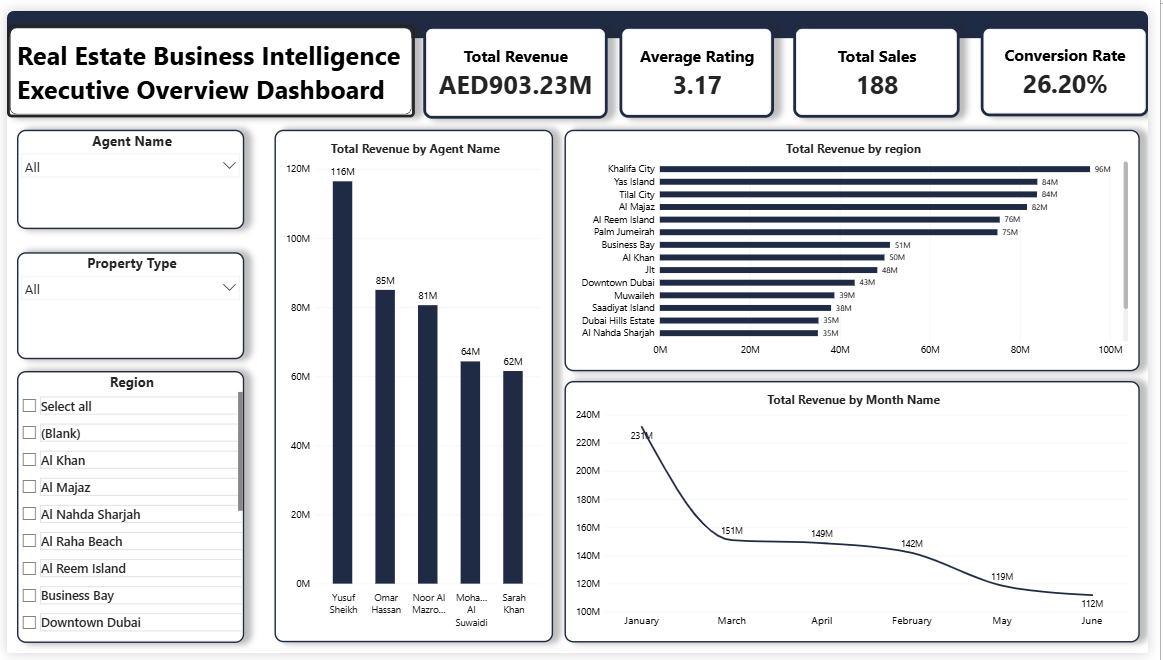

The page's visual inventory and layout, read from the dashboard file:
{"tool":"powerbi","page":{"name":"Page 1","canvas":[1920,1080],"ordinal":0},"visuals":[{"type":"shape","box":[0,0,1920,46],"z":0},{"type":"cardVisual","fields":{"Data":["clean sales.Total Revenue"]},"box":[700,26,310,156],"z":1000},{"type":"barChart","fields":{"Y":["clean sales.Total Revenue"],"Category":["clean properties.region"]},"box":[938,200,968,406],"z":2000},{"type":"lineChart","fields":{"Y":["clean sales.Total Revenue"],"Category":["clean sales.Month Name"]},"box":[938,622,968,440],"z":3000},{"type":"cardVisual","fields":{"Data":["clean sales_details.Conversion Rate"]},"box":[1638,26,282,152],"z":4000},{"type":"cardVisual","fields":{"Data":["clean sales.Average Rating"]},"box":[1030,26,260,154],"z":5000},{"type":"cardVisual","fields":{"Data":["clean sales.Total Sales"]},"box":[1322,26,280,154],"z":6000},{"type":"columnChart","title":"Total Revenue by Agent Name","fields":{"Category":["clean agents.agent_name"],"Y":["clean sales.Total Revenue"]},"box":[450.1,199.8,469.1,862.4],"z":7000},{"type":"slicer","title":"Agent Name","fields":{"Values":["clean agents.agent_name"]},"box":[17.5,200,382.5,167.5],"z":8000},{"type":"slicer","title":"Region","fields":{"Values":["clean properties.region"]},"box":[17.5,605,382.5,457.5],"z":9000},{"type":"slicer","title":"Property Type","fields":{"Values":["clean properties.property_type"]},"box":[17.5,405,382.5,180],"z":10000},{"type":"shape","box":[0,23.8,686.2,156.2],"z":10500},{"type":"textbox","box":[17.5,45,667.5,155],"z":11000}]}

Visuals, with their boxes in screenshot pixels (x1, y1, x2, y2), scaled from the page's 1920x1080 canvas onto the 1163x660 screenshot:
shape: [left=0, top=0, right=1162, bottom=28]
cardVisual - clean sales.Total Revenue: [left=424, top=16, right=612, bottom=111]
barChart - clean sales.Total Revenue x clean properties.region: [left=568, top=122, right=1155, bottom=370]
lineChart - clean sales.Total Revenue x clean sales.Month Name: [left=568, top=380, right=1155, bottom=649]
cardVisual - clean sales_details.Conversion Rate: [left=992, top=16, right=1162, bottom=109]
cardVisual - clean sales.Average Rating: [left=624, top=16, right=781, bottom=110]
cardVisual - clean sales.Total Sales: [left=801, top=16, right=970, bottom=110]
"Total Revenue by Agent Name" columnChart: [left=273, top=122, right=557, bottom=649]
"Agent Name" slicer: [left=11, top=122, right=242, bottom=225]
"Region" slicer: [left=11, top=370, right=242, bottom=649]
"Property Type" slicer: [left=11, top=248, right=242, bottom=358]
shape: [left=0, top=15, right=416, bottom=110]
textbox: [left=11, top=28, right=415, bottom=122]
